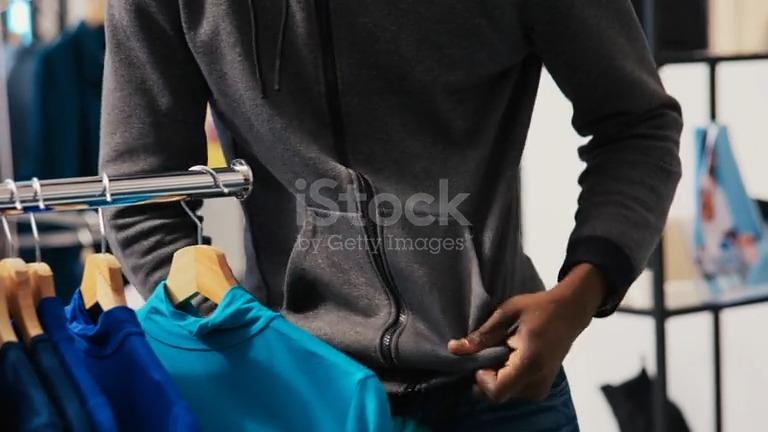Shoplifting: (128, 0, 656, 432)
